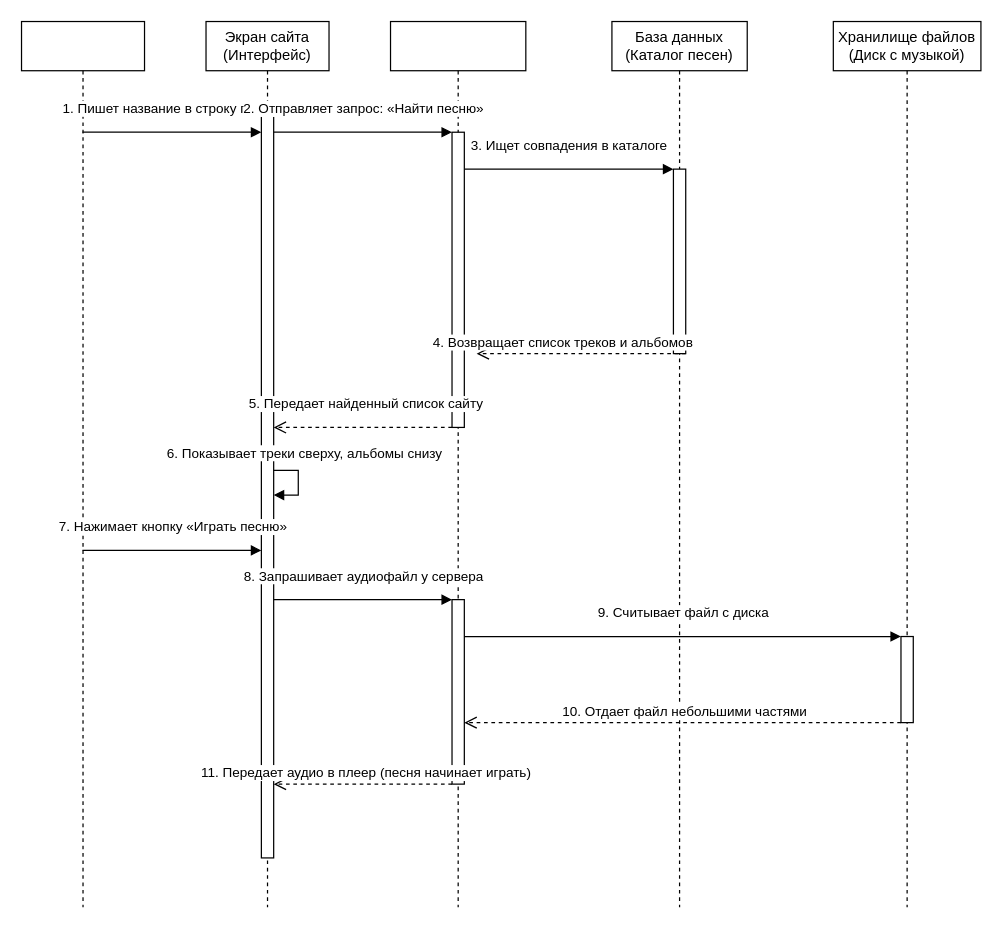
Image size: 1002x929. Some labels were removed from this diagram. Here are the shapes that lost their labels. From the top down, the box of each, then its label:
(20, 20, 145, 907): Пользователь (Слушатель)
(389, 20, 526, 907): Сервер (Логика сайта)
